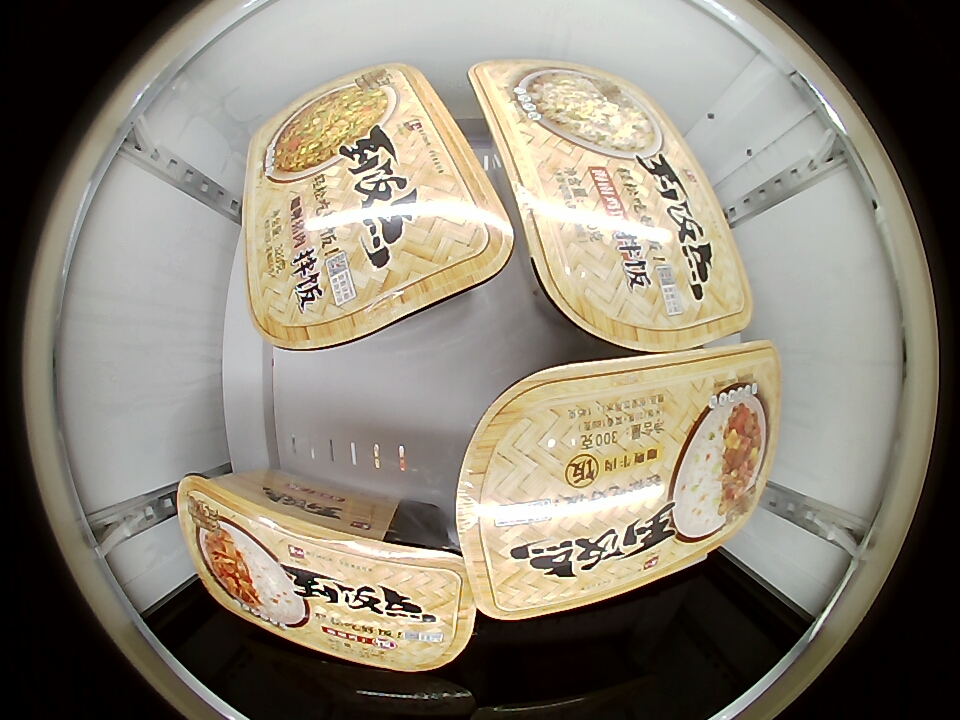daofandian1: (469, 56, 752, 350)
daofandian2: (458, 343, 782, 617)
daofandian3: (241, 63, 513, 351)
daofandian4: (176, 472, 475, 670)
